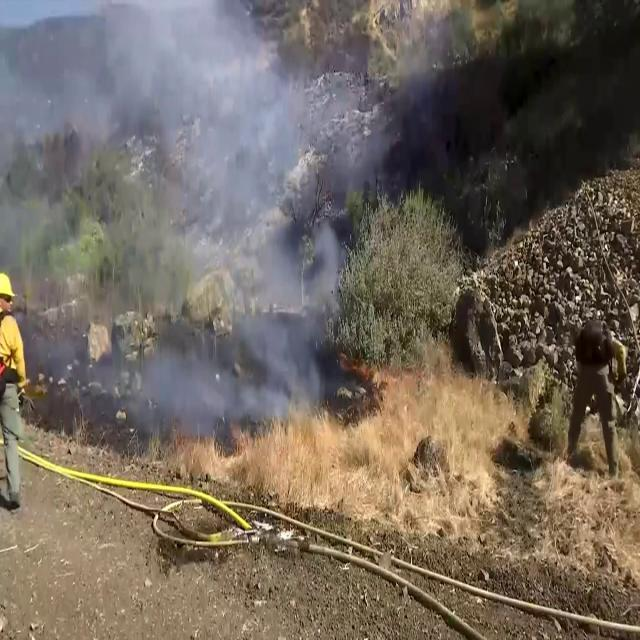Smoke: (86, 0, 354, 438)
